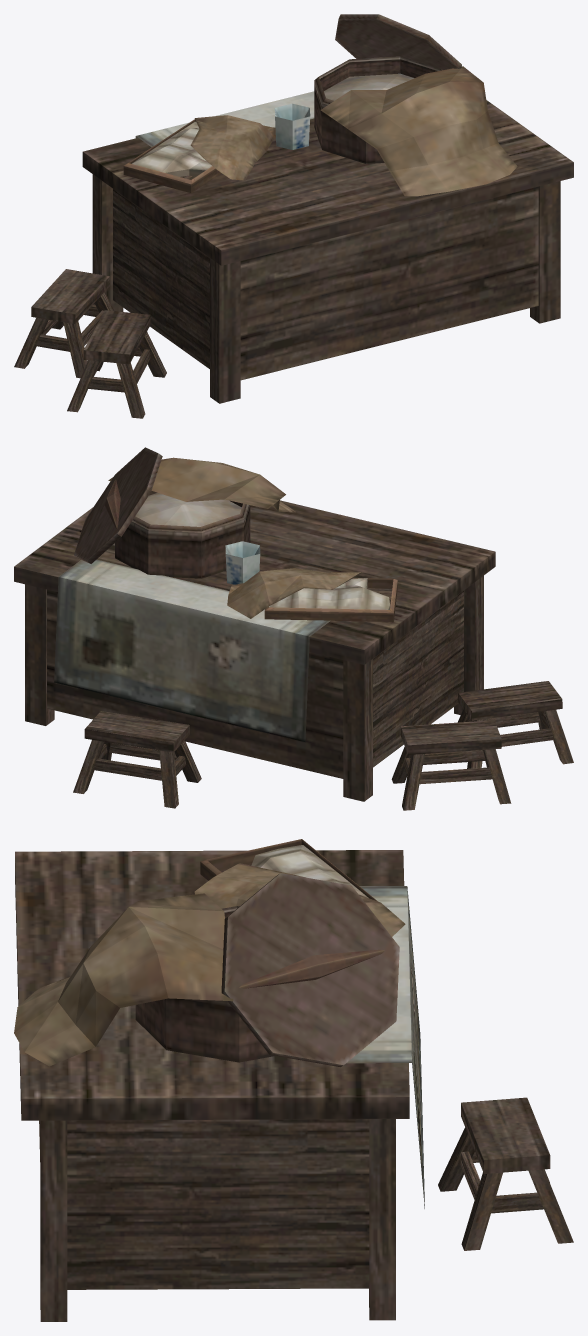
File: 杂物摊01.fbx
3 renders of one model, top to bottom at view 1: azimuth 30°, elevation 25°; view 2: azimuth 150°, elevation 25°; view 3: azimuth 270°, elevation 25°, orthographic. The views are drawn at different scales.
Visible parts, largest first — view 1: qingmo_obj_280 [10484684]; view 2: qingmo_obj_280 [10484684]; view 3: qingmo_obj_280 [10484684].
Part boxes in pixels (x1,y1,x2,y2): qingmo_obj_280 [10484684]: (14, 14, 573, 418); qingmo_obj_280 [10484684]: (14, 447, 573, 810); qingmo_obj_280 [10484684]: (14, 839, 573, 1321).
Size of the model in its own units: 19.44 by 13.99 by 10.51.
1 material, 1 textured.
